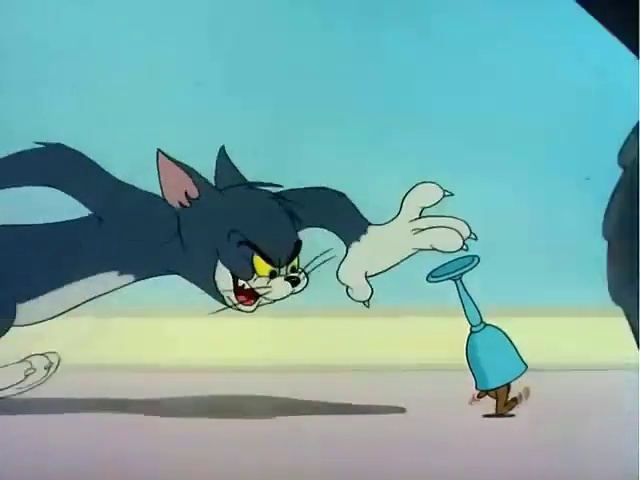tom: (1, 113, 475, 362)
